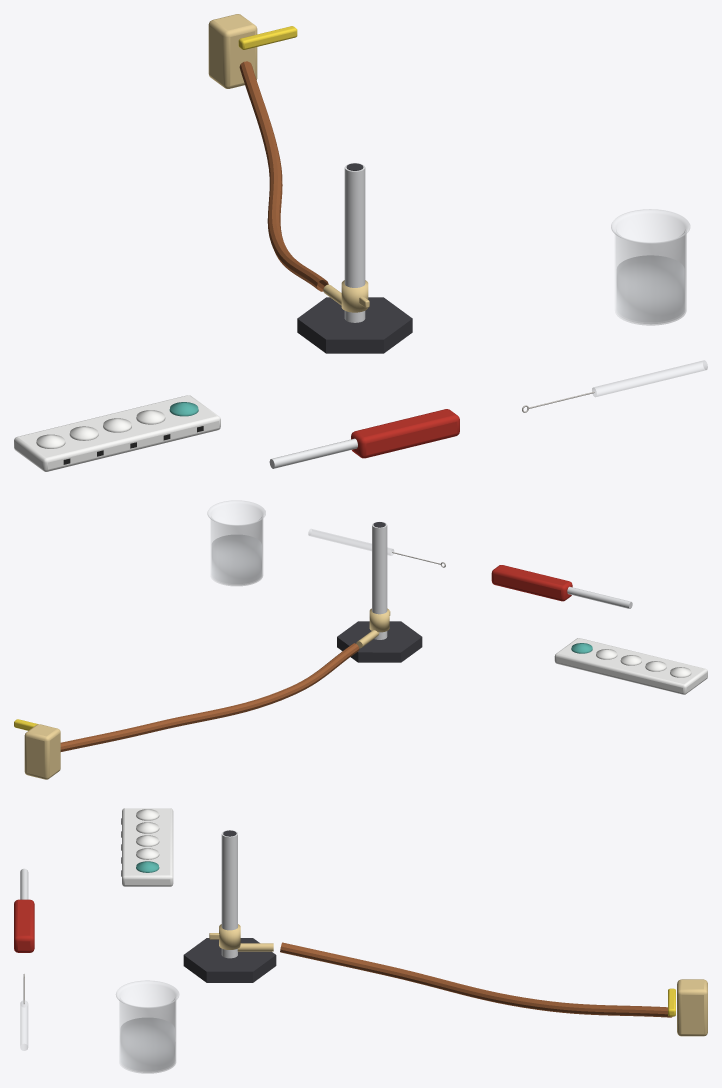
File: flame-test.glb
The picture shows the model from 3 angles, top to bottom: view 1: azimuth 30°, elevation 25°; view 2: azimuth 150°, elevation 25°; view 3: azimuth 270°, elevation 25°; orthographic projection. The views are drawn at different scales.
Visible parts, largest first — view 1: acid_beaker, spot_tile, burner_base, acid_liquid, gas_hose, lighter_body, tap_block, burner_barrel, loop_handle, lighter_nozzle, tap_lever; view 2: acid_beaker, spot_tile, gas_hose, burner_base, acid_liquid, tap_block, lighter_body, burner_barrel, loop_handle, lighter_nozzle; view 3: acid_beaker, gas_hose, spot_tile, burner_base, acid_liquid, tap_block, burner_barrel, lighter_body, air_collar.
Part boxes in pixels (x1=…): acid_beaker: x1=611, y1=209, x2=689, y2=325; spot_tile: x1=14, y1=395, x2=220, y2=471; burner_base: x1=297, y1=297, x2=412, y2=353; acid_liquid: x1=617, y1=255, x2=684, y2=321; gas_hose: x1=239, y1=61, x2=328, y2=291; lighter_body: x1=351, y1=409, x2=459, y2=458; tap_block: x1=208, y1=14, x2=257, y2=88; burner_barrel: x1=344, y1=163, x2=365, y2=322; loop_handle: x1=592, y1=360, x2=707, y2=396; lighter_nozzle: x1=269, y1=438, x2=357, y2=468; tap_lever: x1=238, y1=26, x2=297, y2=49; acid_beaker: x1=207, y1=500, x2=265, y2=585; spot_tile: x1=554, y1=638, x2=707, y2=694; gas_hose: x1=60, y1=643, x2=359, y2=751; burner_base: x1=337, y1=621, x2=422, y2=662; acid_liquid: x1=212, y1=535, x2=261, y2=583; tap_block: x1=24, y1=724, x2=60, y2=779; lighter_body: x1=491, y1=565, x2=572, y2=601; burner_barrel: x1=372, y1=521, x2=387, y2=639; loop_handle: x1=308, y1=529, x2=393, y2=555; lighter_nozzle: x1=567, y1=586, x2=632, y2=608; acid_beaker: x1=116, y1=980, x2=179, y2=1073; gas_hose: x1=280, y1=942, x2=672, y2=1017; spot_tile: x1=122, y1=808, x2=173, y2=886; burner_base: x1=183, y1=938, x2=276, y2=982; acid_liquid: x1=120, y1=1018, x2=174, y2=1070; tap_block: x1=677, y1=979, x2=707, y2=1036; burner_barrel: x1=221, y1=830, x2=237, y2=958; lighter_body: x1=14, y1=899, x2=34, y2=952; air_collar: x1=219, y1=924, x2=240, y2=949.
Size of the model in its own units: 0.591 by 0.1455 by 0.675.
